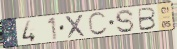1: (46, 16, 59, 42)
4: (21, 19, 37, 43)
B: (137, 6, 157, 32)
C: (87, 10, 109, 37)
S: (114, 8, 136, 34)
X: (64, 14, 87, 40)
